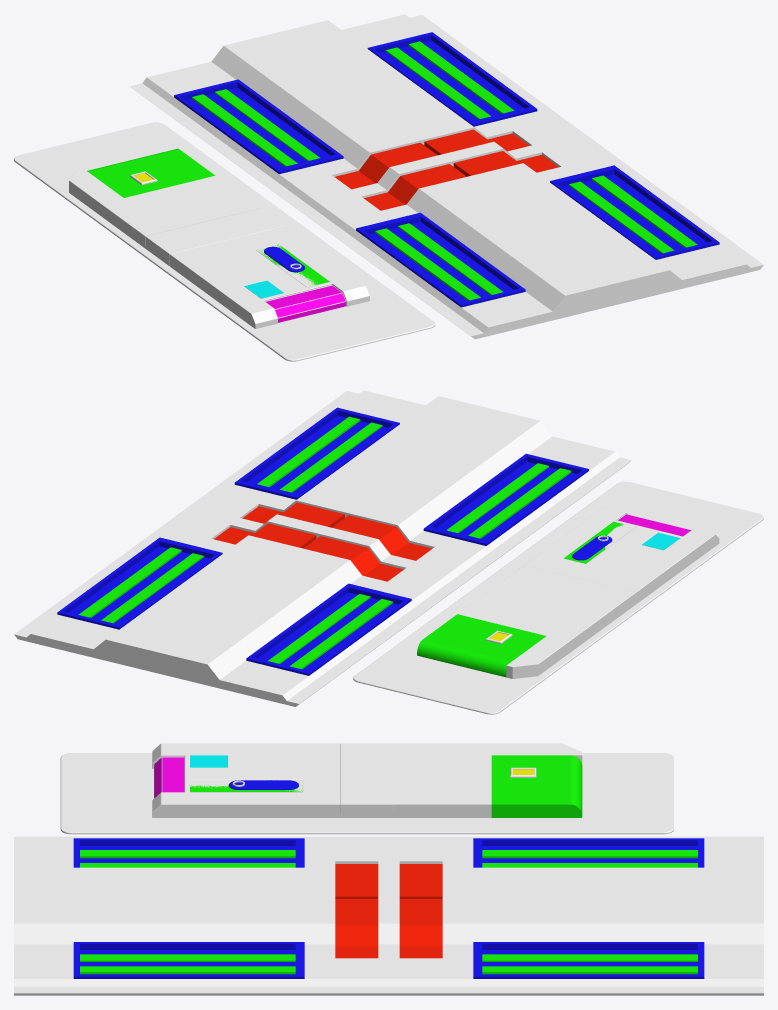
File: HAllwayPanelsOutofPos.fbx
3 views of the same model, one above another, from view 1: azimuth 30°, elevation 25°; view 2: azimuth 150°, elevation 25°; view 3: azimuth 270°, elevation 25° (orthographic). The views are drawn at different scales.
Visible parts, largest first — view 1: Cube.050, Cube.051; view 2: Cube.050, Cube.051; view 3: Cube.050, Cube.051.
Boxes of the visible parts, box(x1,y1,x2,y2) form: Cube.050: box(130, 14, 763, 339); Cube.051: box(14, 122, 435, 361); Cube.050: box(14, 390, 631, 706); Cube.051: box(353, 481, 763, 714); Cube.050: box(14, 836, 763, 995); Cube.051: box(60, 743, 673, 834).
Size of the model in its own units: 459 by 21.02 by 600.
